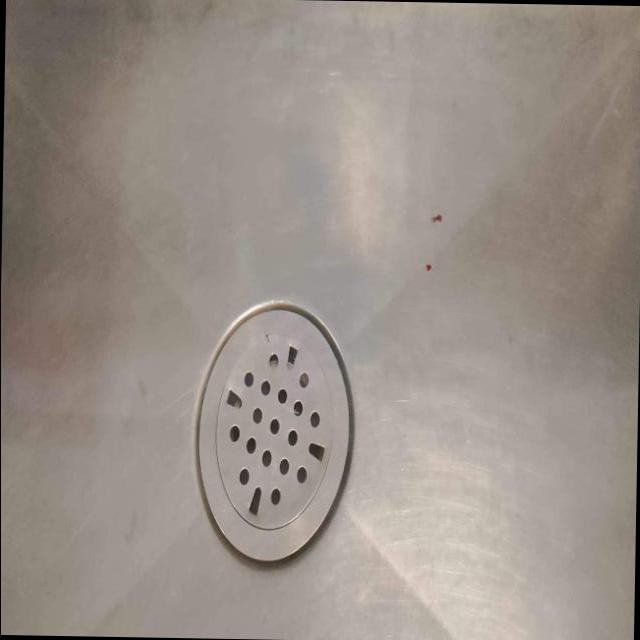General: (193, 297, 357, 564), (217, 337, 332, 526)
Pathological: (3, 2, 638, 637)
